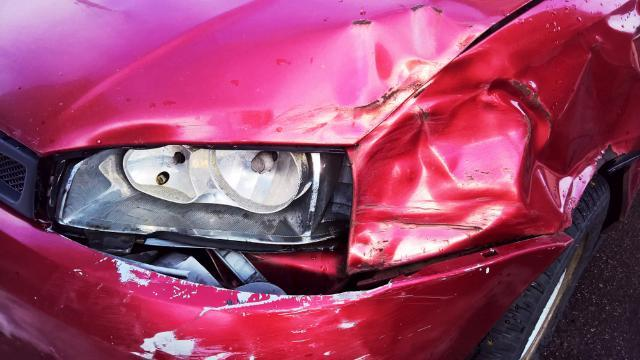dent: (347, 21, 640, 261), (89, 7, 484, 146)
dislocated part: (49, 228, 573, 359)
lamp broken: (54, 142, 357, 248)
scratch: (110, 258, 389, 360)
